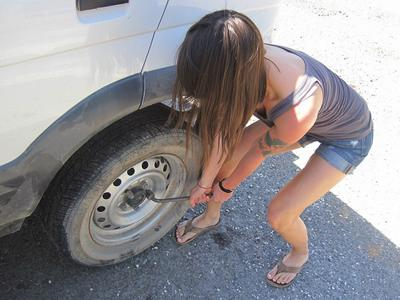person: (174, 7, 375, 290)
